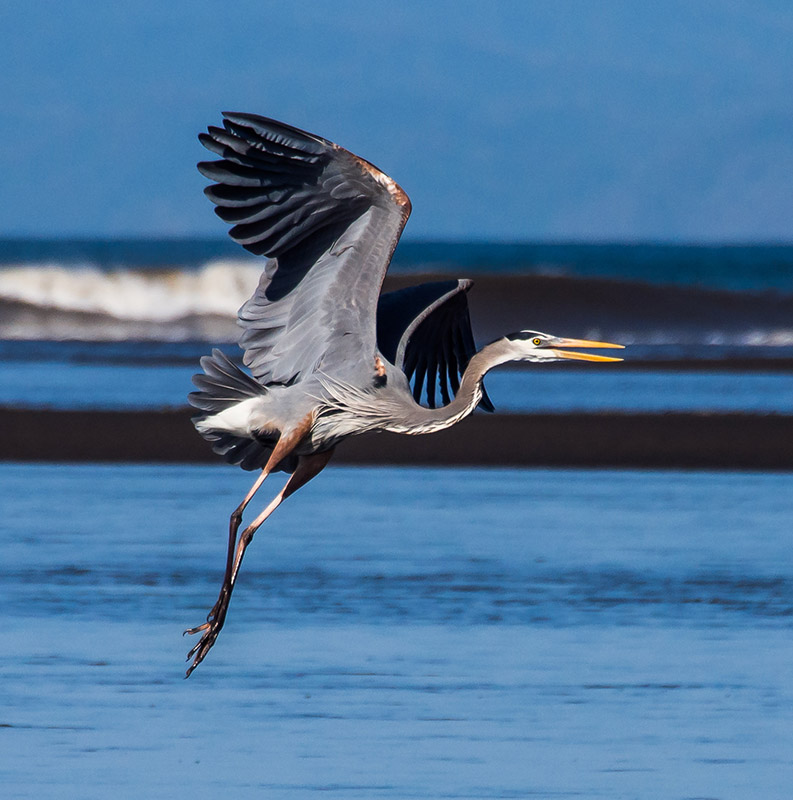heron: (142, 96, 637, 691)
